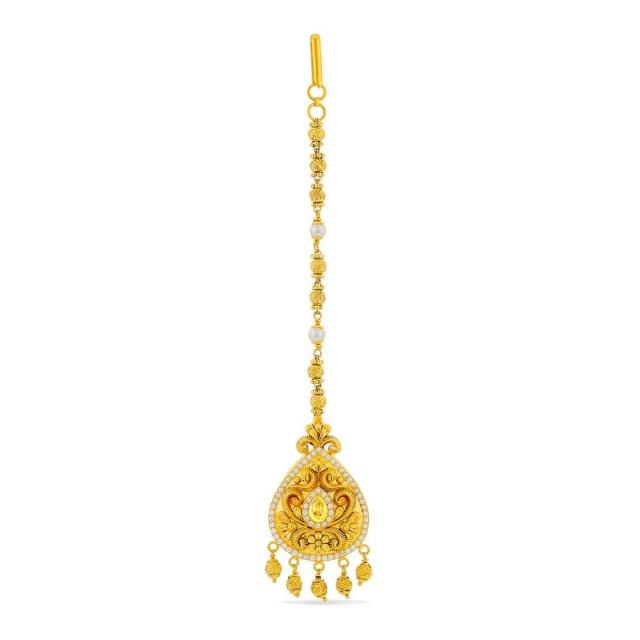missing gem: (308, 494, 327, 522)
